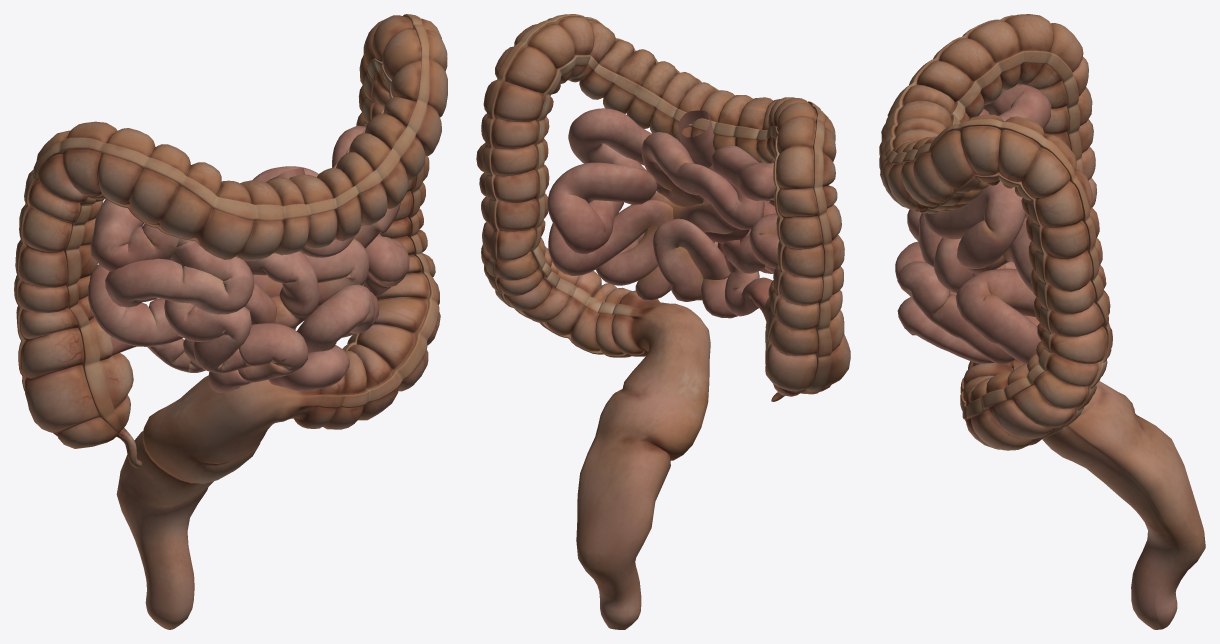
File: colon.glb
The picture shows the model from 3 angles, left to right: view 1: azimuth 30°, elevation 25°; view 2: azimuth 150°, elevation 25°; view 3: azimuth 270°, elevation 25°; orthographic projection. The views are drawn at different scales.
Parts seen in each view (by area): view 1: Object_6, Object_3, Object_4, Object_5, Object_7, Object_2; view 2: Object_6, Object_3, Object_4, Object_7, Object_5, Object_2; view 3: Object_6, Object_3, Object_4, Object_7, Object_5, Object_2.
Part boxes in pixels (x1,y1,x2,y2): Object_6: (14, 24, 447, 629); Object_3: (88, 125, 409, 392); Object_4: (356, 85, 439, 304); Object_5: (372, 14, 435, 276); Object_7: (363, 18, 441, 254); Object_2: (359, 55, 389, 106); Object_6: (514, 14, 850, 629); Object_3: (547, 108, 779, 318); Object_4: (476, 73, 561, 311); Object_7: (481, 24, 561, 280); Object_5: (479, 20, 577, 296); Object_2: (486, 78, 553, 121); Object_6: (879, 14, 1205, 629); Object_3: (895, 84, 1051, 364); Object_4: (1004, 181, 1112, 428); Object_7: (998, 129, 1110, 388); Object_5: (998, 116, 1106, 410); Object_2: (1021, 169, 1093, 226).
Size of the model in its own units: 22.65 by 32.23 by 16.45.
Materials: 2 (2 with a texture image).
